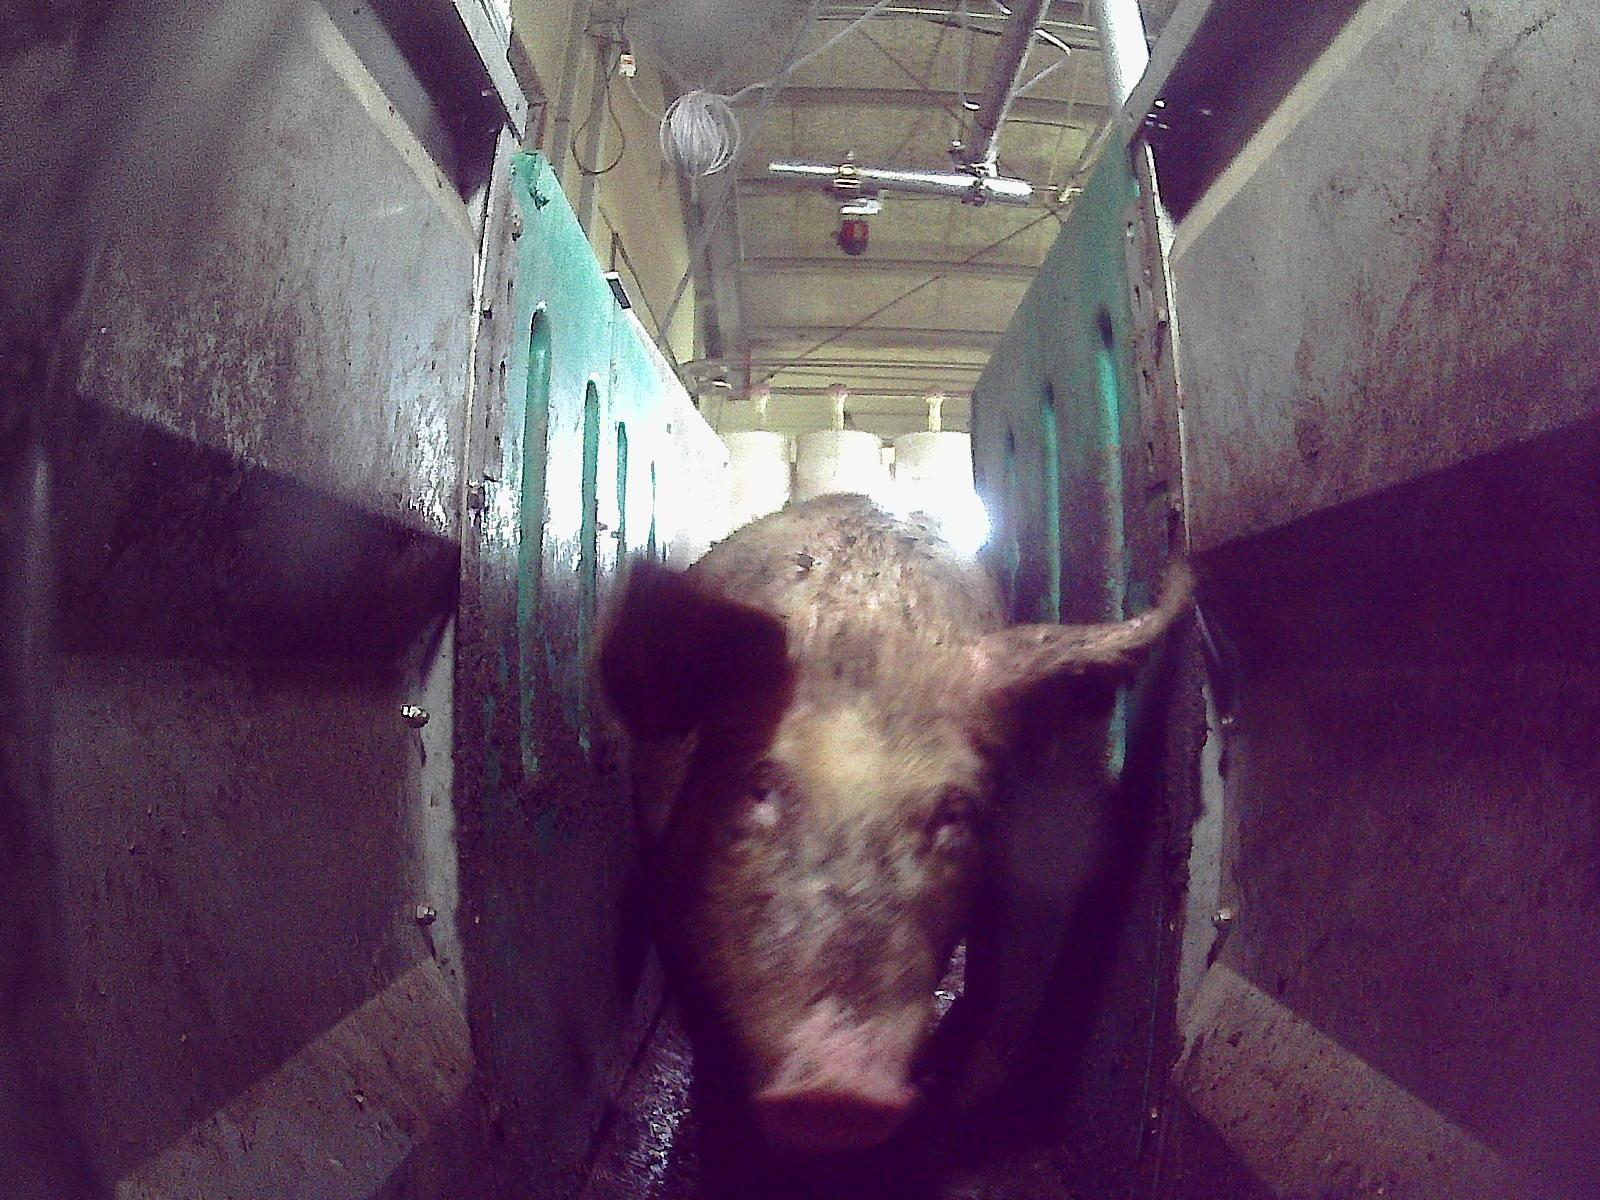Face: (697, 649, 991, 1153)
